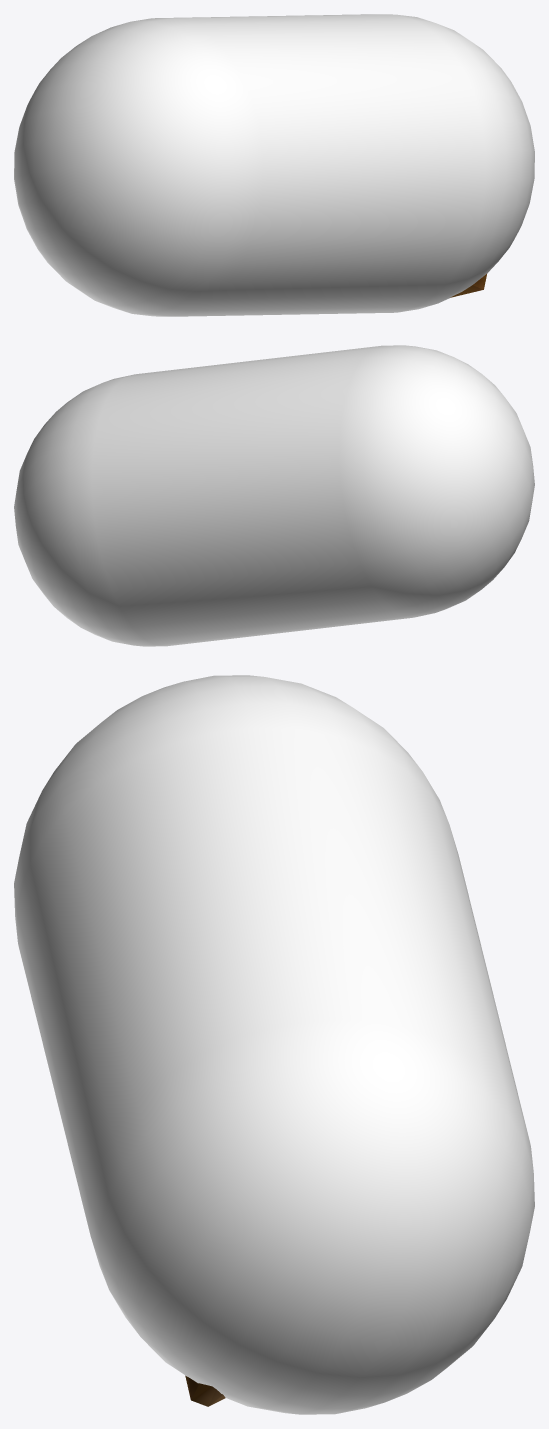
Rendered from HotSnackAnchor.fbx.
3 views of the same model, one above another, from view 1: azimuth 30°, elevation 25°; view 2: azimuth 150°, elevation 25°; view 3: azimuth 270°, elevation 25° (orthographic). The views are drawn at different scales.
Parts seen in each view (by area): view 1: HotSnackInteractionPoint; view 2: HotSnackInteractionPoint; view 3: HotSnackInteractionPoint.
Boxes of the visible parts, <box> form: HotSnackInteractionPoint: <box>14,14,534,316</box>; HotSnackInteractionPoint: <box>14,345,534,646</box>; HotSnackInteractionPoint: <box>14,675,534,1414</box>.
Size of the model in its own units: 27.15 by 17.68 by 16.15.
